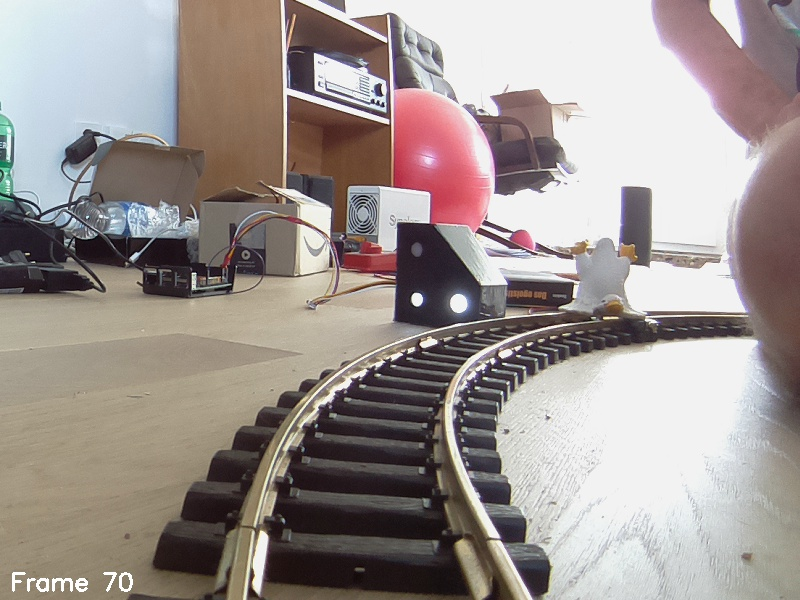Ente: (556, 236, 650, 329)
Halt: (394, 222, 507, 331)
